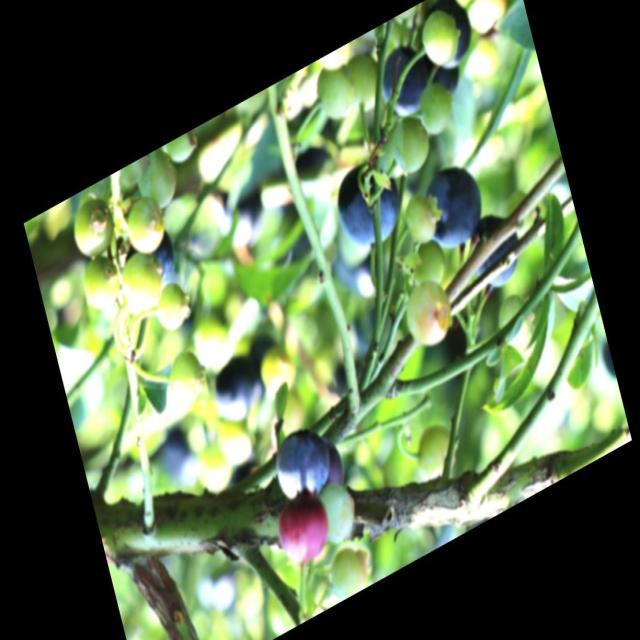blueberry: (328, 143, 408, 261), (417, 153, 488, 260), (270, 416, 335, 510), (463, 201, 527, 296), (374, 38, 432, 127), (207, 348, 268, 430), (418, 0, 481, 77), (146, 225, 181, 290), (314, 432, 347, 494)
blueberry-unripe: (398, 270, 457, 355), (274, 488, 333, 572), (68, 190, 121, 266), (115, 243, 166, 318), (322, 536, 378, 604), (384, 107, 433, 180), (121, 189, 171, 260), (412, 412, 458, 484), (133, 147, 180, 214), (78, 248, 125, 314), (164, 340, 208, 410), (316, 481, 361, 547), (314, 58, 357, 124), (400, 189, 440, 254), (153, 277, 193, 333), (418, 81, 457, 137), (165, 130, 195, 166)
